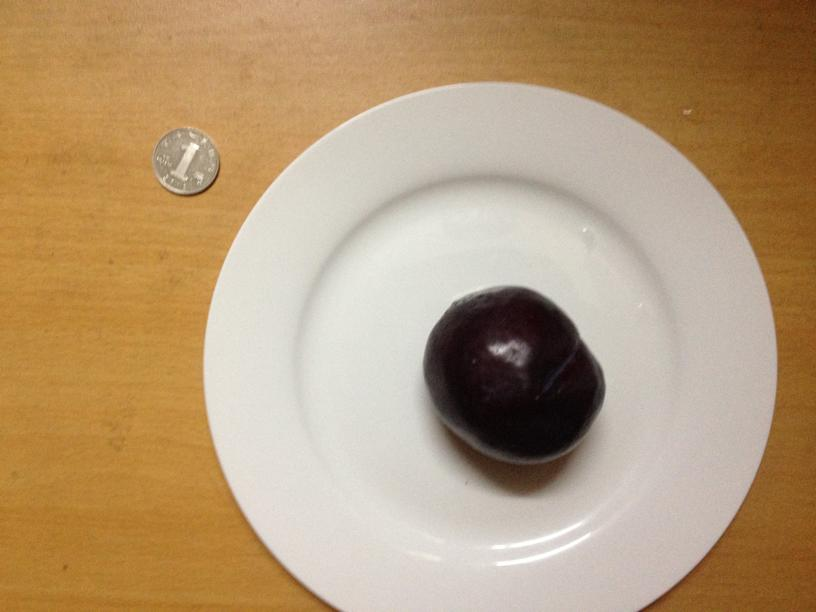coin: (147, 126, 218, 196)
plum: (416, 283, 606, 463)
